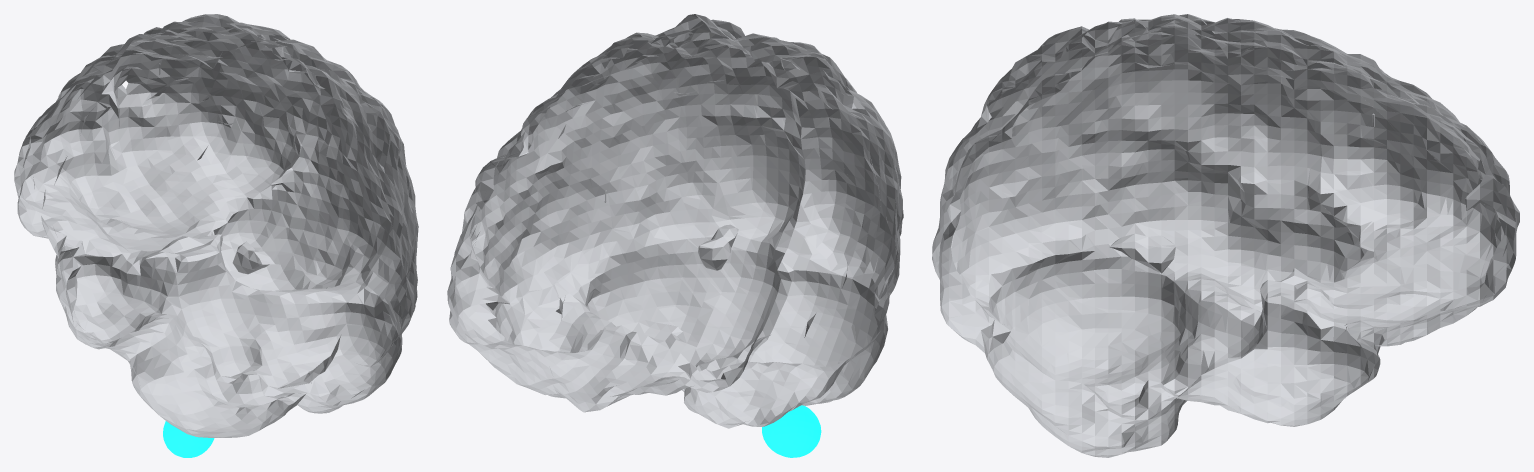
File: sub-PID08_prediction_ar_model.glb
3 renders of one model, left to right at view 1: azimuth 30°, elevation 25°; view 2: azimuth 150°, elevation 25°; view 3: azimuth 270°, elevation 25°, orthographic. The views are drawn at different scales.
Parts seen in each view (by area): view 1: Brain_Cortex, Predicted_Hotspot; view 2: Brain_Cortex, Predicted_Hotspot; view 3: Brain_Cortex.
Boxes of the visible parts, <box> form: Brain_Cortex: <box>14,14,418,437</box>; Predicted_Hotspot: <box>163,421,214,457</box>; Brain_Cortex: <box>447,14,903,428</box>; Predicted_Hotspot: <box>762,405,821,457</box>; Brain_Cortex: <box>932,14,1519,457</box>.
Bounding box in the file's own units: 0.1258 × 0.1423 × 0.1771.
